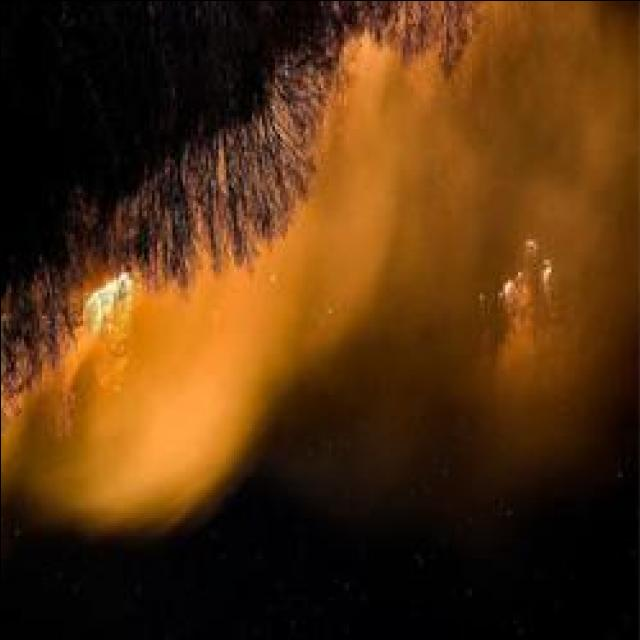fire: (81, 271, 131, 336)
smoke: (99, 294, 320, 526), (542, 0, 640, 201), (494, 297, 630, 438), (314, 110, 406, 306), (550, 180, 640, 365)
